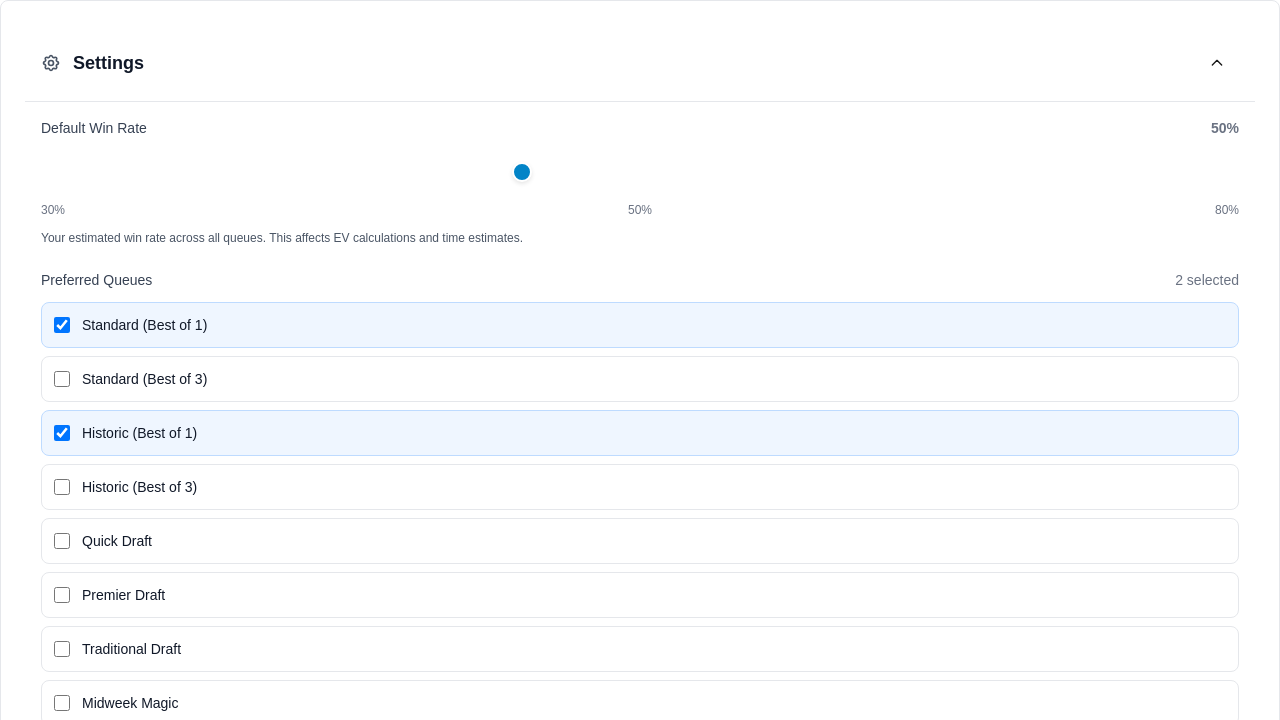
Test: SettingsPanel › Real-time Updates › shows auto-saved indicator when changes are made
Set the slider named "Default win rate percentage" to "60" at (758, 172), box left=41, top=150, right=1239, bottom=194
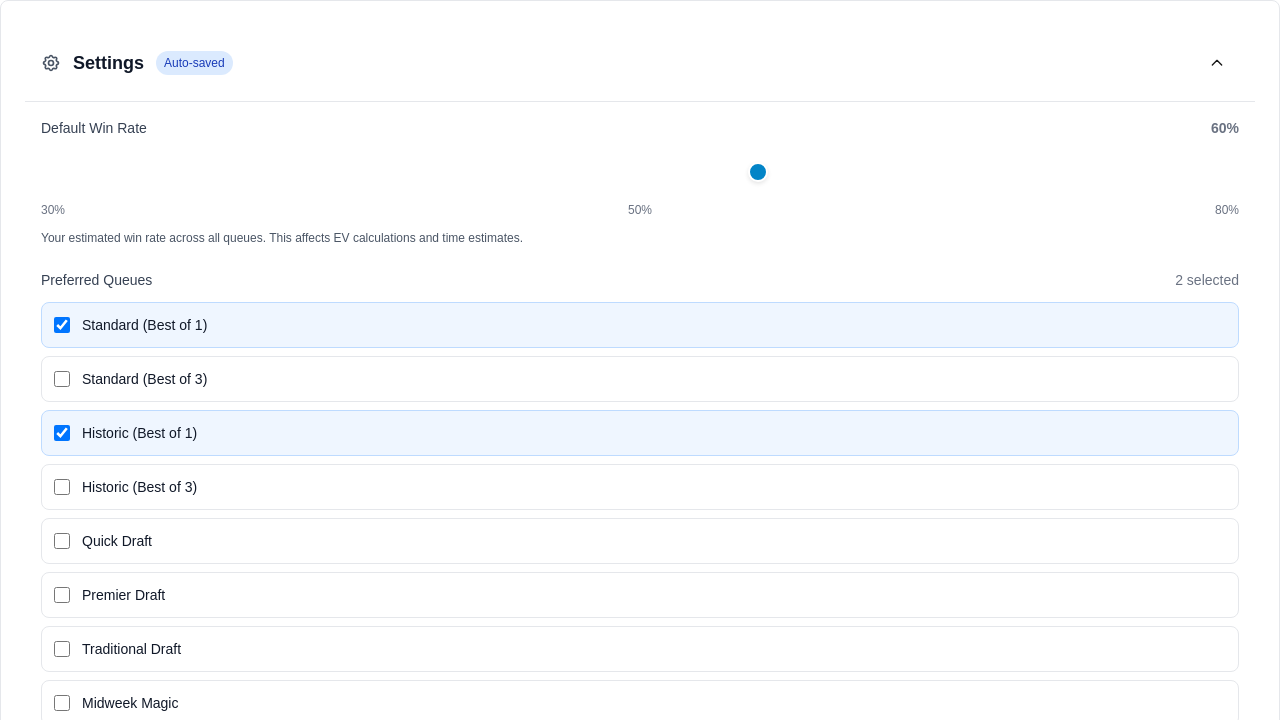
Check: the text "Auto-saved" is shown, box left=156, top=51, right=233, bottom=75
